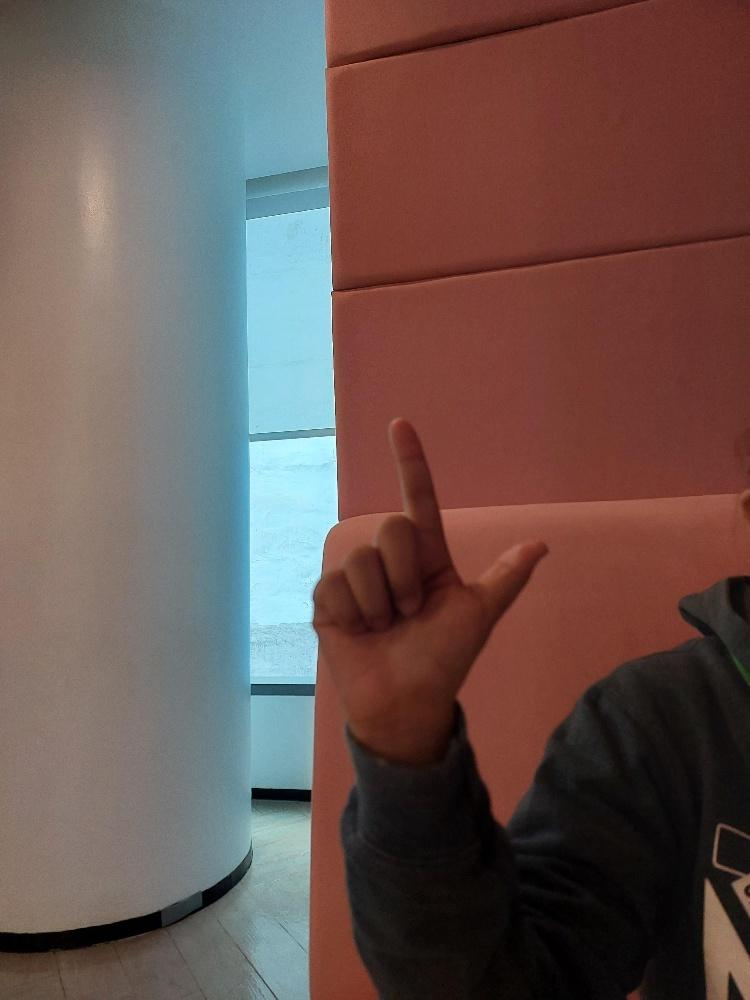l: (305, 405, 558, 745)
